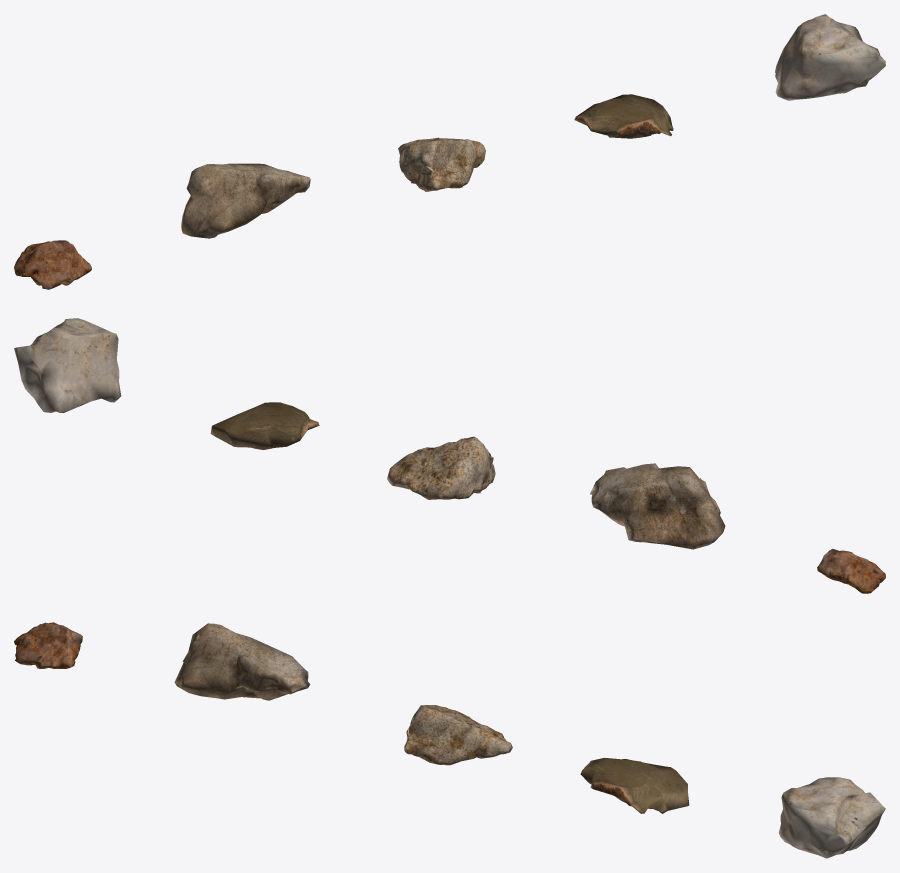
Rendered from namaqualand_stones_01.glb.
3 renders of one model, top to bottom at view 1: azimuth 30°, elevation 25°; view 2: azimuth 150°, elevation 25°; view 3: azimuth 330°, elevation 25°, orthographic.
Visible parts, largest first — view 1: namaqualand_stones_01_e, namaqualand_stones_01_b, namaqualand_stones_01_c, namaqualand_stones_01_d, namaqualand_stones_01_a; view 2: namaqualand_stones_01_b, namaqualand_stones_01_e, namaqualand_stones_01_c, namaqualand_stones_01_d, namaqualand_stones_01_a; view 3: namaqualand_stones_01_b, namaqualand_stones_01_e, namaqualand_stones_01_c, namaqualand_stones_01_d, namaqualand_stones_01_a.
Boxes of the visible parts, x1,y1,x2,y2 form: namaqualand_stones_01_e: [775, 14, 885, 100]; namaqualand_stones_01_b: [181, 163, 310, 238]; namaqualand_stones_01_c: [398, 137, 485, 191]; namaqualand_stones_01_d: [574, 94, 673, 138]; namaqualand_stones_01_a: [14, 240, 91, 289]; namaqualand_stones_01_b: [590, 463, 725, 549]; namaqualand_stones_01_e: [14, 318, 121, 412]; namaqualand_stones_01_c: [387, 436, 495, 499]; namaqualand_stones_01_d: [210, 402, 319, 449]; namaqualand_stones_01_a: [817, 548, 885, 593]; namaqualand_stones_01_b: [174, 623, 310, 700]; namaqualand_stones_01_e: [778, 777, 885, 858]; namaqualand_stones_01_c: [404, 705, 512, 765]; namaqualand_stones_01_d: [580, 757, 689, 813]; namaqualand_stones_01_a: [14, 622, 82, 668].
Size of the model in its own units: 1.02 by 0.084 by 0.1116.
1 material, 1 textured.
